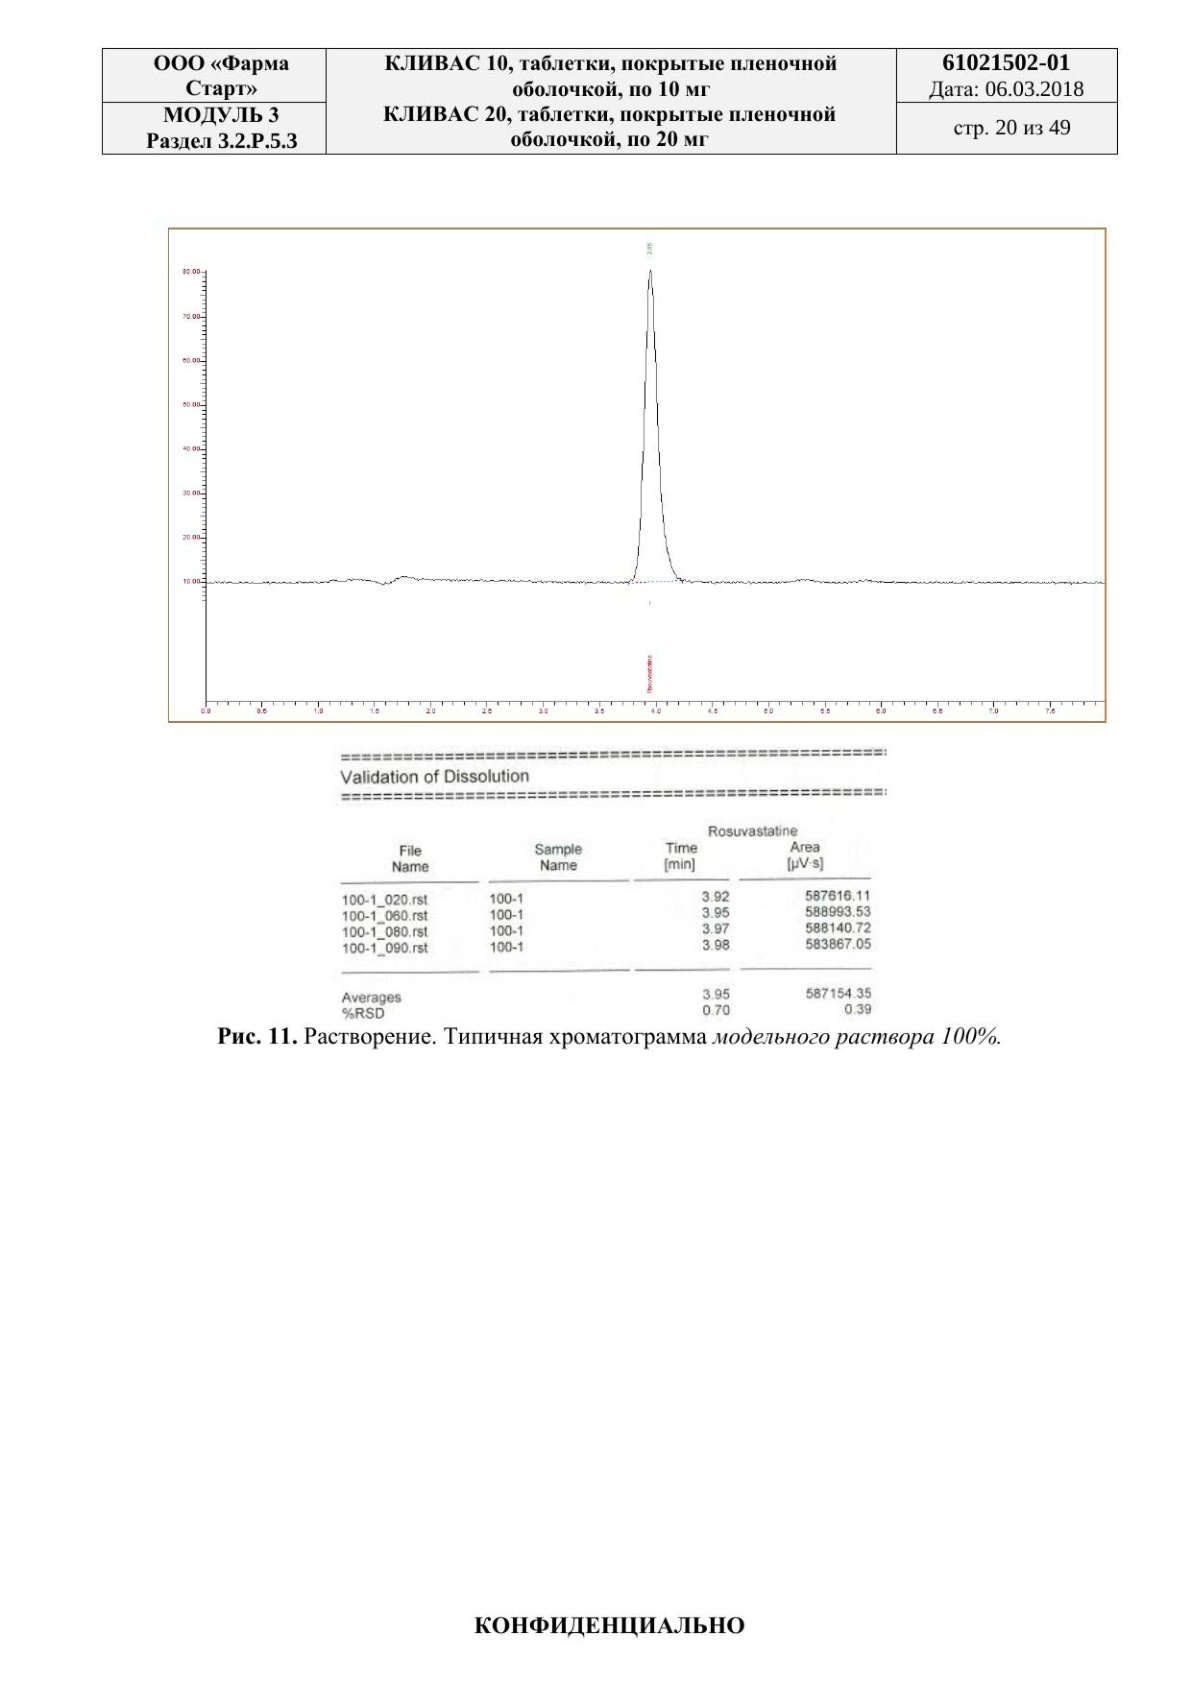merged_cells: (101, 49, 1117, 154)
partial_lined: (342, 788, 880, 974)
